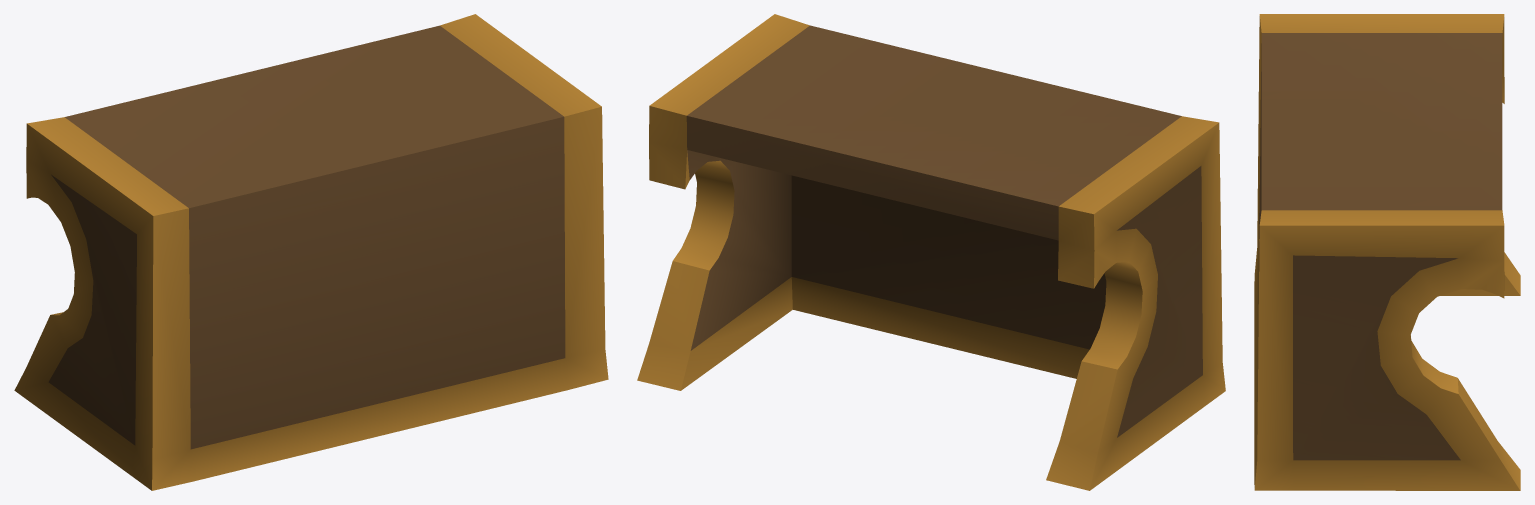
The model's file is obj_tableSmall_LOW.FBX.
The picture shows the model from 3 angles, left to right: view 1: azimuth 30°, elevation 25°; view 2: azimuth 150°, elevation 25°; view 3: azimuth 270°, elevation 25°; orthographic projection. The views are drawn at different scales.
Visible parts, largest first — view 1: obj_tableSmall_LOW; view 2: obj_tableSmall_LOW; view 3: obj_tableSmall_LOW.
Part boxes in pixels (x1,y1,x2,y2): obj_tableSmall_LOW: [14, 14, 608, 490]; obj_tableSmall_LOW: [637, 14, 1225, 490]; obj_tableSmall_LOW: [1254, 14, 1520, 490].
Bounding box in the file's own units: 3.41 × 1.94 × 1.78.
